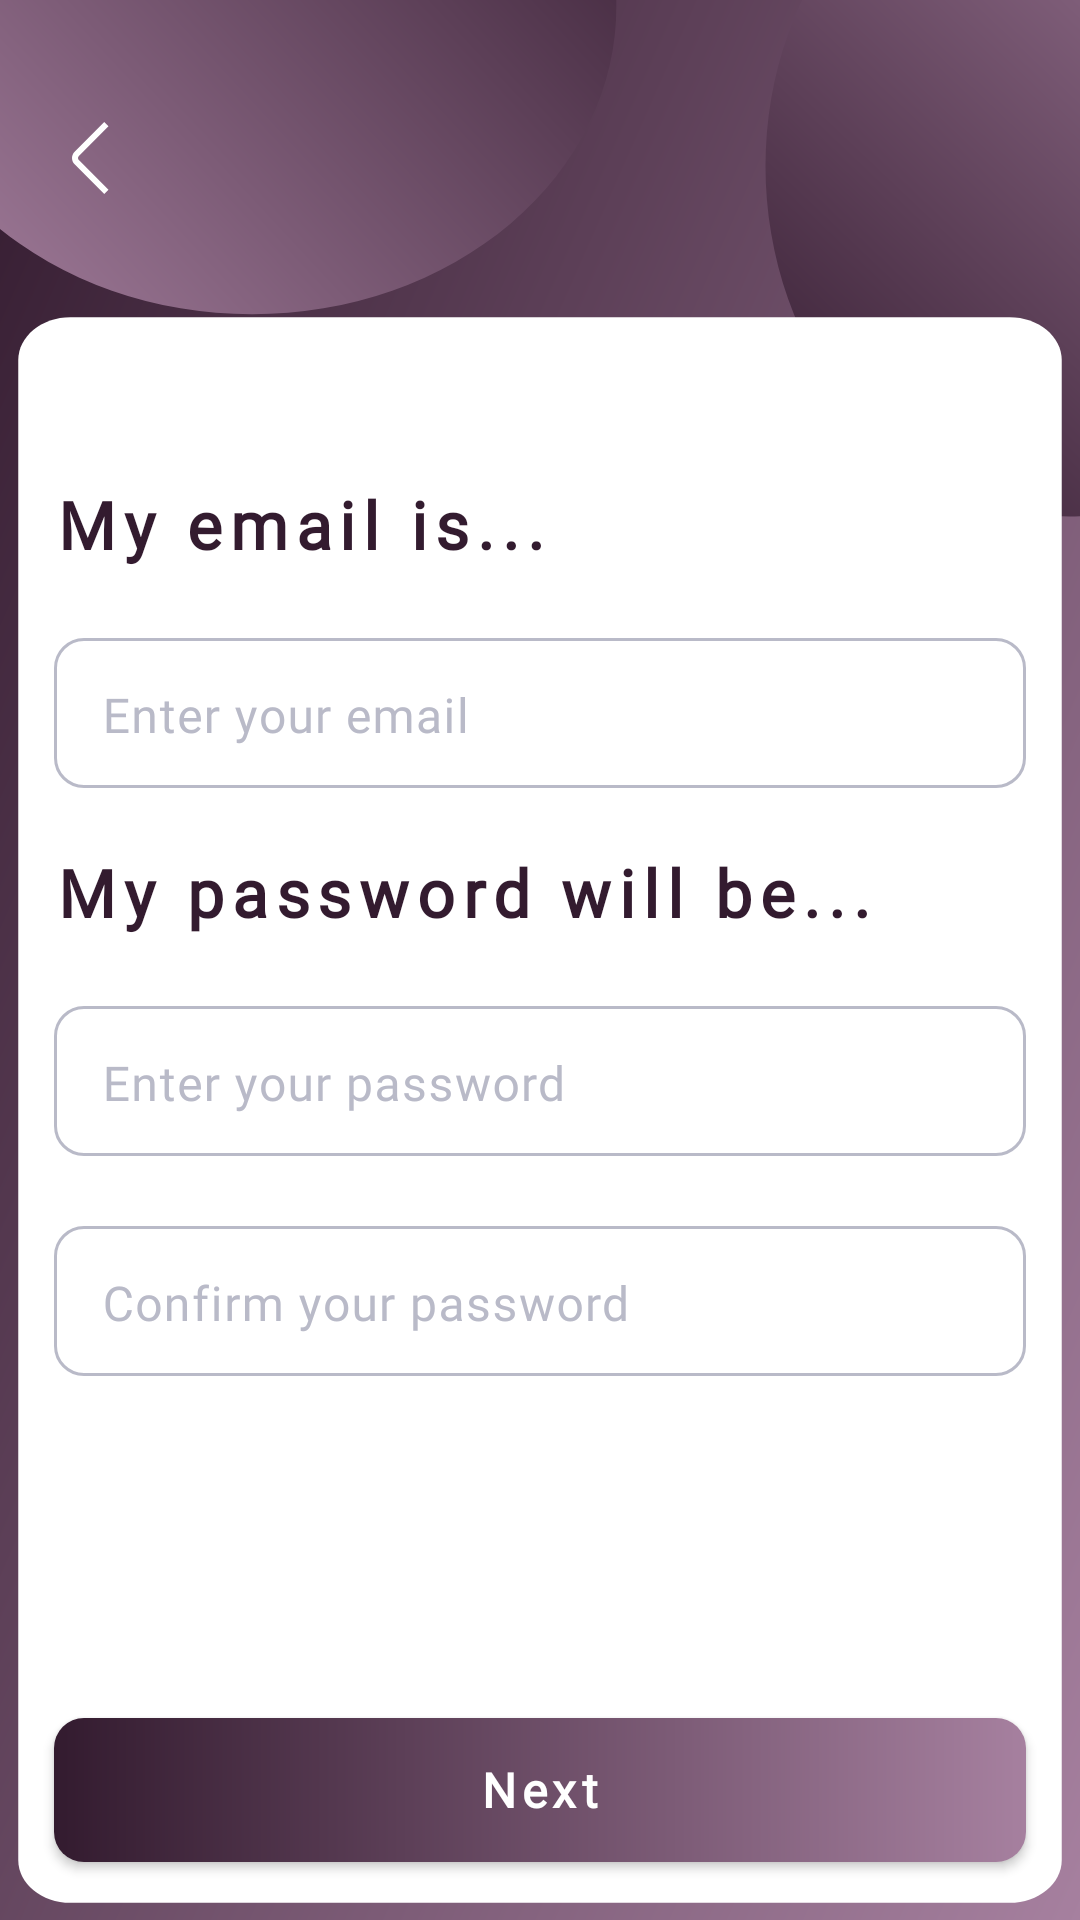

Icon bounding boxes for this 1080px x 1920px phone screenshot, format (x1, y1, x2, y2):
back arrow: (72, 122, 109, 194)
